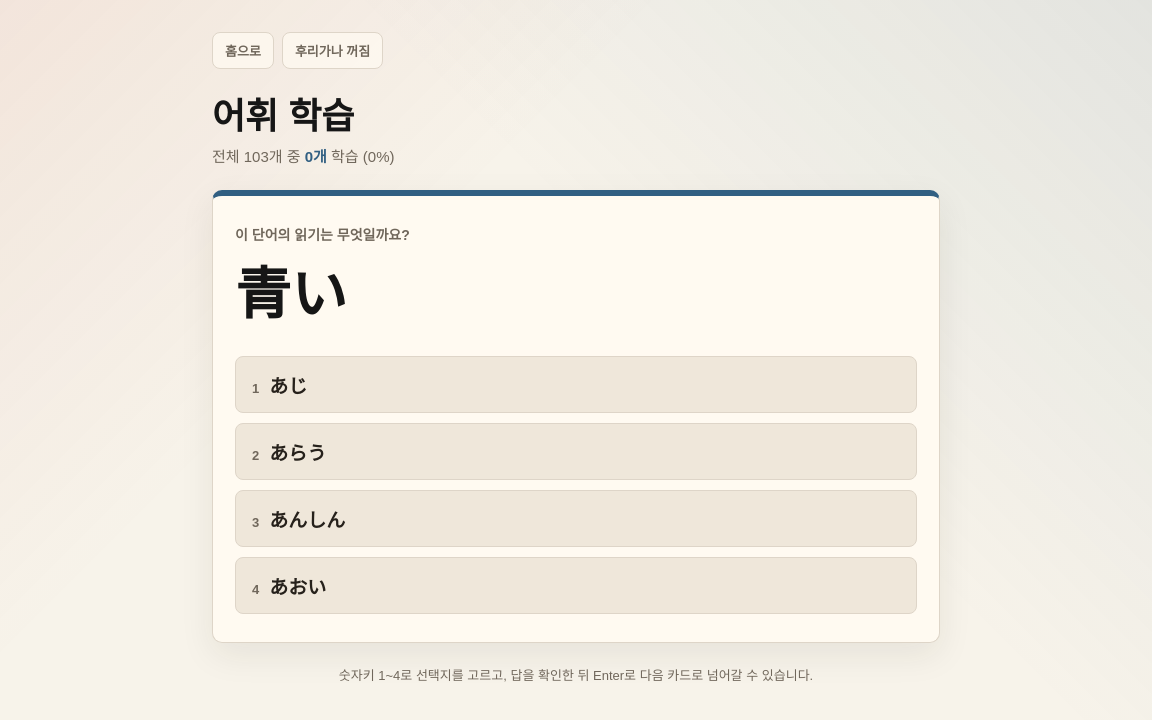
Test: 학습 화면 (S1, AC-4) › 정답을 고르면 정답 표시와 학습 정보를 보여 준다 (JN4-008, AC-4)
Click the button "4あおい".
click(298, 588)  # box [235,557,917,614]
(page scrolled)
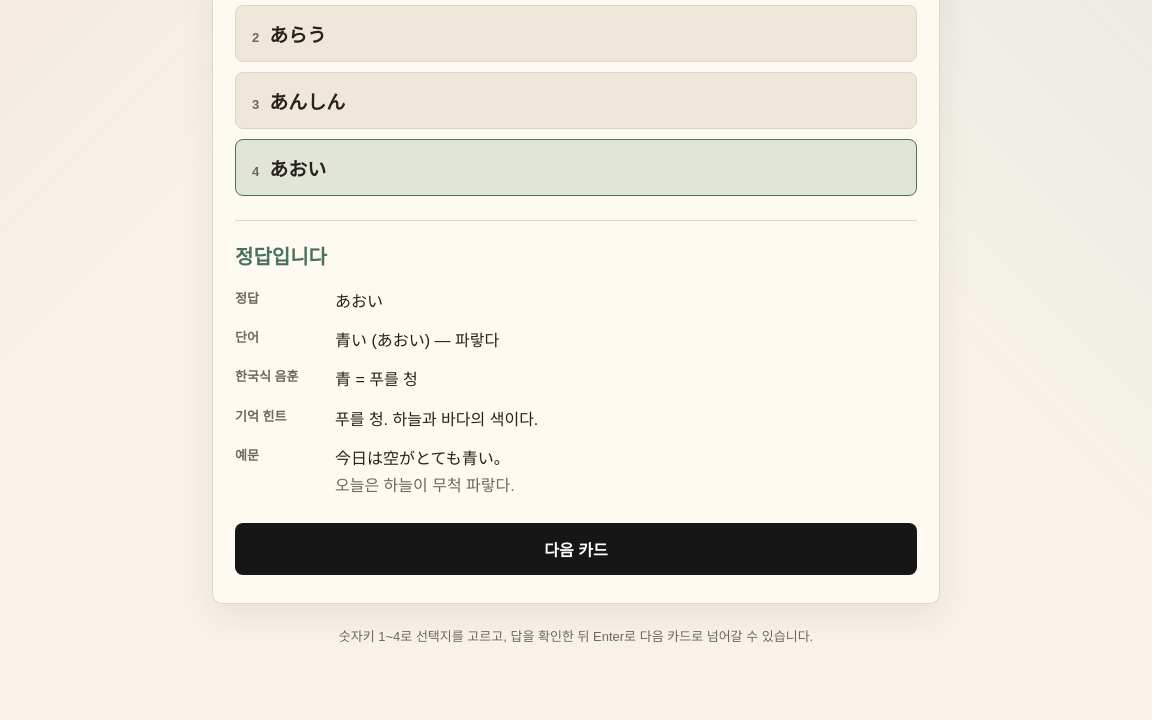
Check: the text with test id "verdict" shows "정답", box [235,246,327,268]
Check: the text "青 = 푸를 청" is shown, box [335,371,418,388]
Check: the text "푸를 청. 하늘과 바다의 색이다." is shown, box [335,411,538,428]
